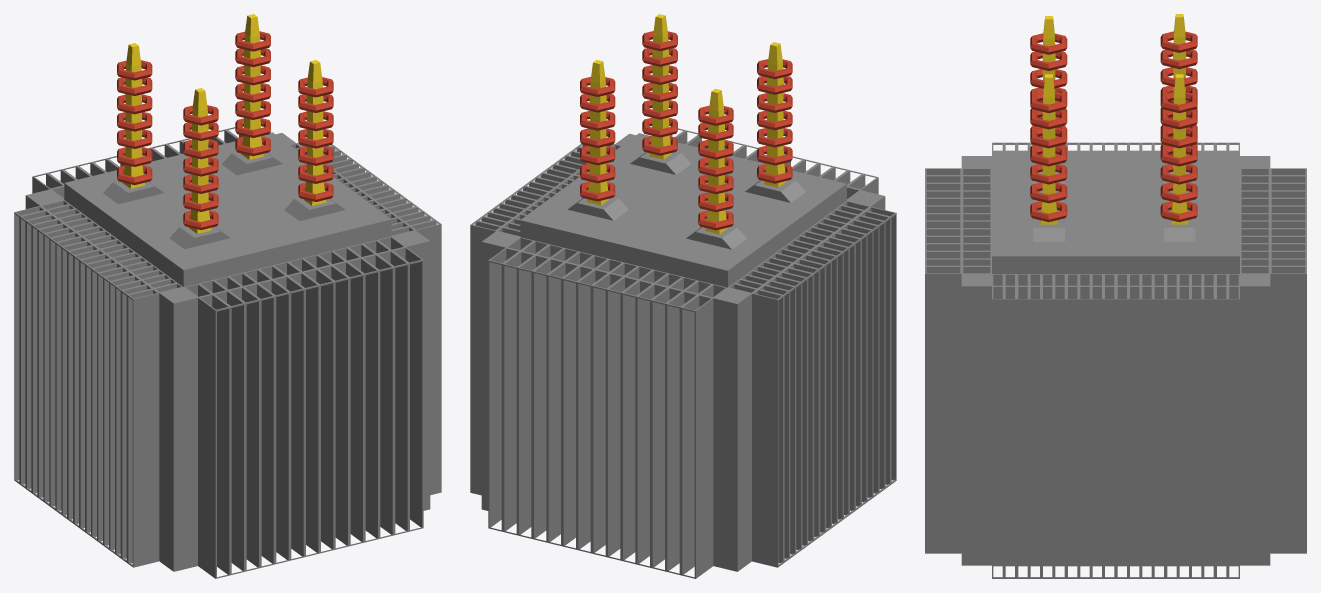
Rendered from Electrotraph.fbx.
3 renders of one model, left to right at view 1: azimuth 30°, elevation 25°; view 2: azimuth 150°, elevation 25°; view 3: azimuth 270°, elevation 25°, orthographic. The views are drawn at different scales.
Parts seen in each view (by area): view 1: Cube; view 2: Cube; view 3: Cube.
Part boxes in pixels (box(x1,y1,x2,y2)): Cube: box(14, 14, 441, 578); Cube: box(470, 14, 896, 578); Cube: box(925, 14, 1306, 578).
Bounding box in the file's own units: 240 × 324 × 248.
